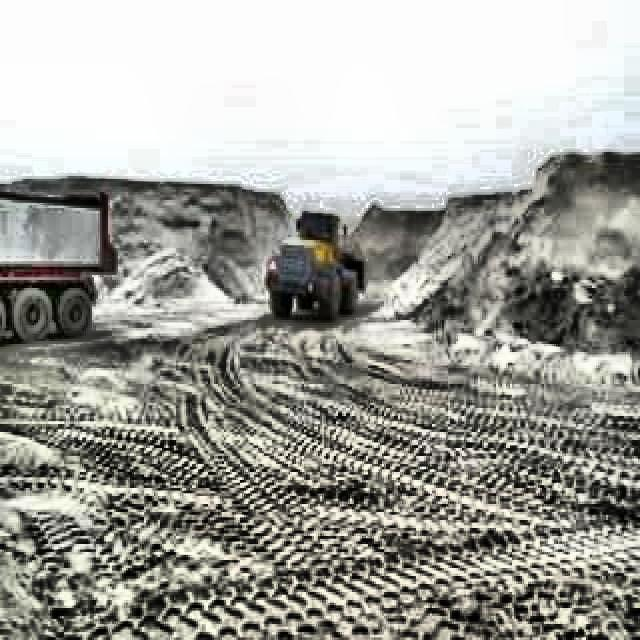bull_dozer/loader/grader: (260, 202, 364, 320)
dump_truck: (0, 186, 116, 342)
